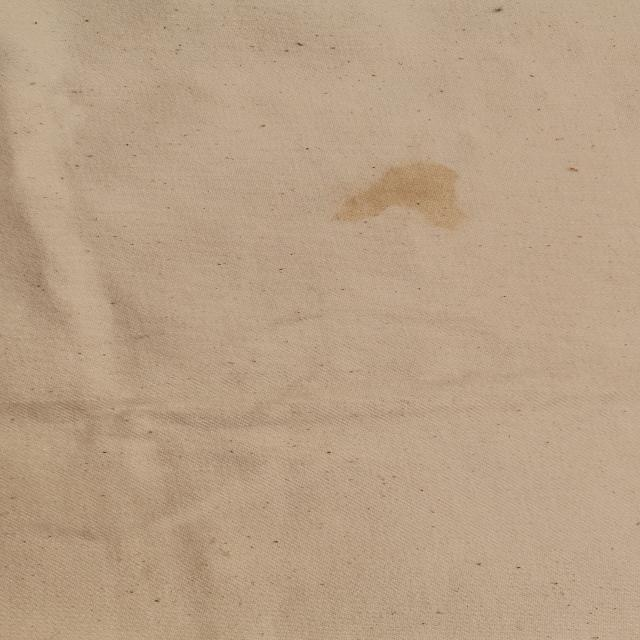taaaches: (338, 147, 537, 245)
